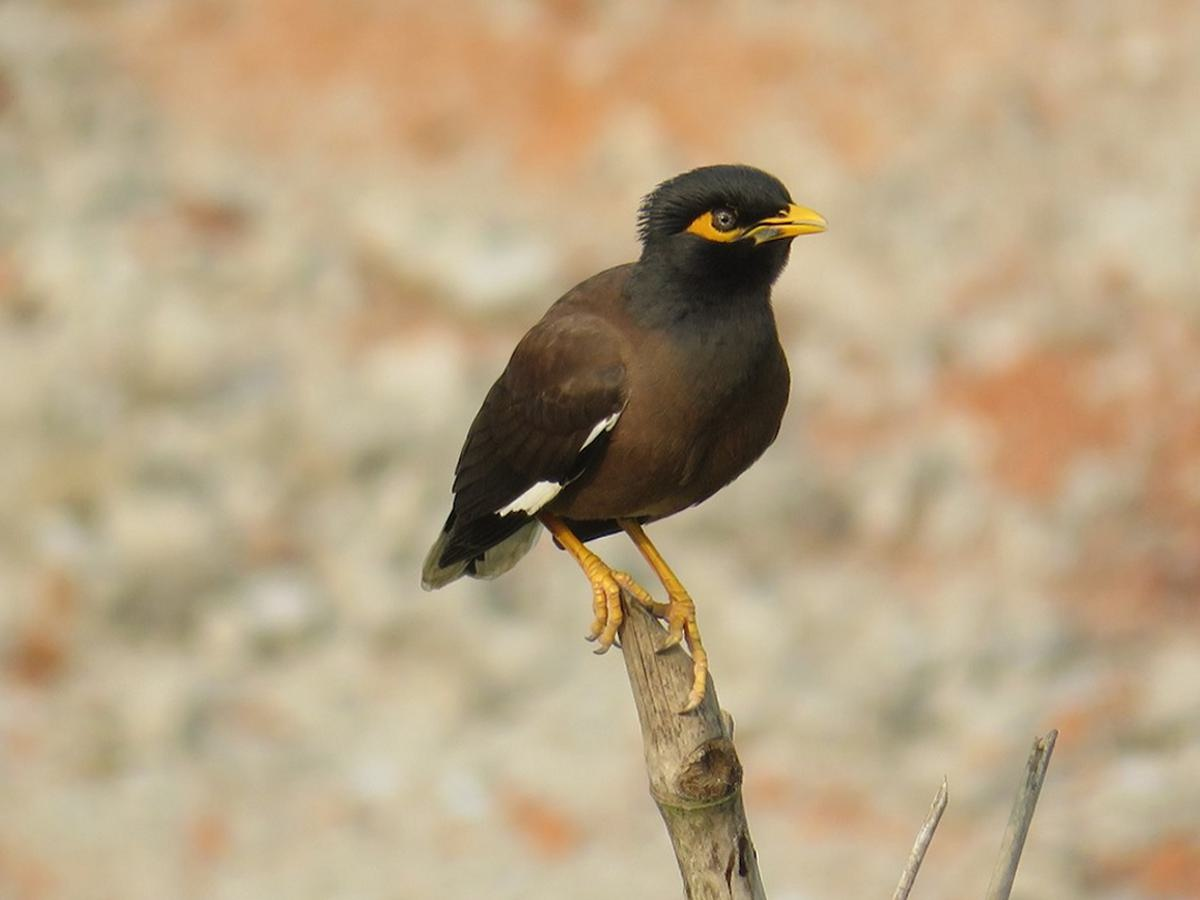myna: (393, 155, 836, 631)
